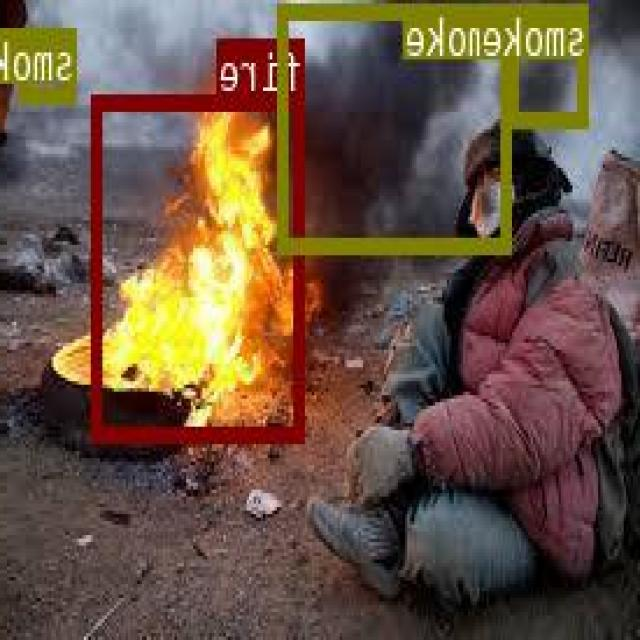fire: (93, 92, 306, 440)
smoke: (280, 3, 512, 252), (510, 2, 590, 124), (22, 26, 79, 99)
